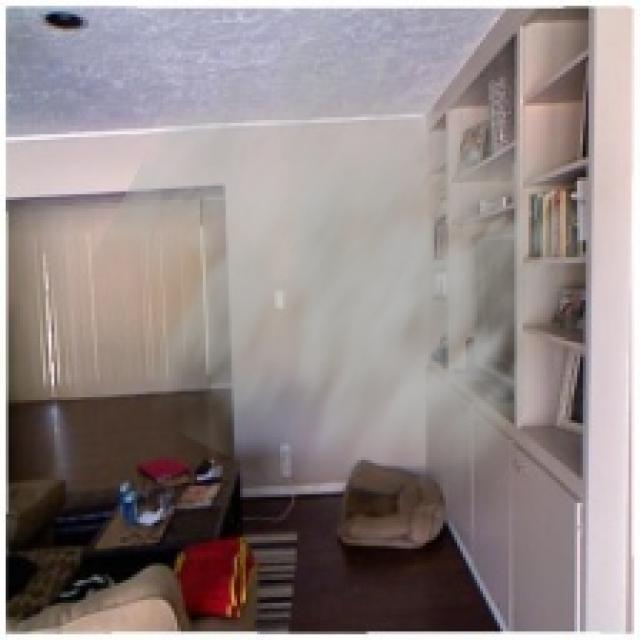Smoke: (82, 6, 618, 568)
